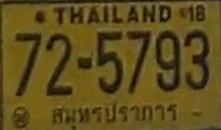2: (44, 32, 72, 94)
3: (184, 29, 208, 89)
5: (95, 30, 121, 93)
7: (14, 31, 41, 96), (126, 30, 150, 92)
9: (154, 30, 180, 90)
SPK: (50, 100, 181, 127)
